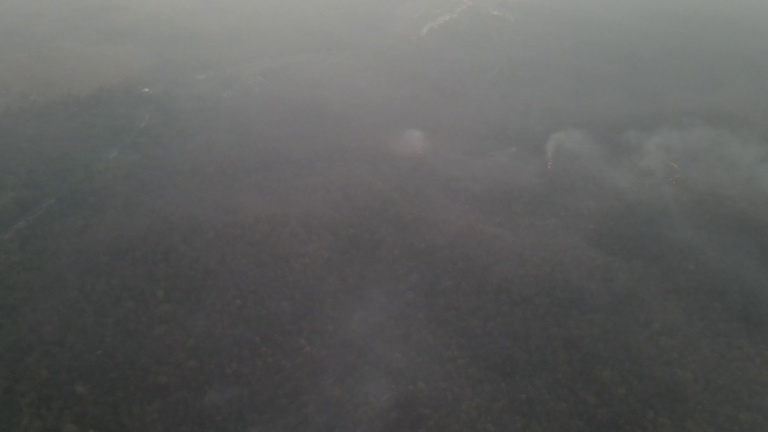fire: (661, 158, 686, 191), (542, 158, 559, 173)
smoke: (610, 122, 768, 224), (542, 130, 608, 188), (392, 126, 432, 160)
